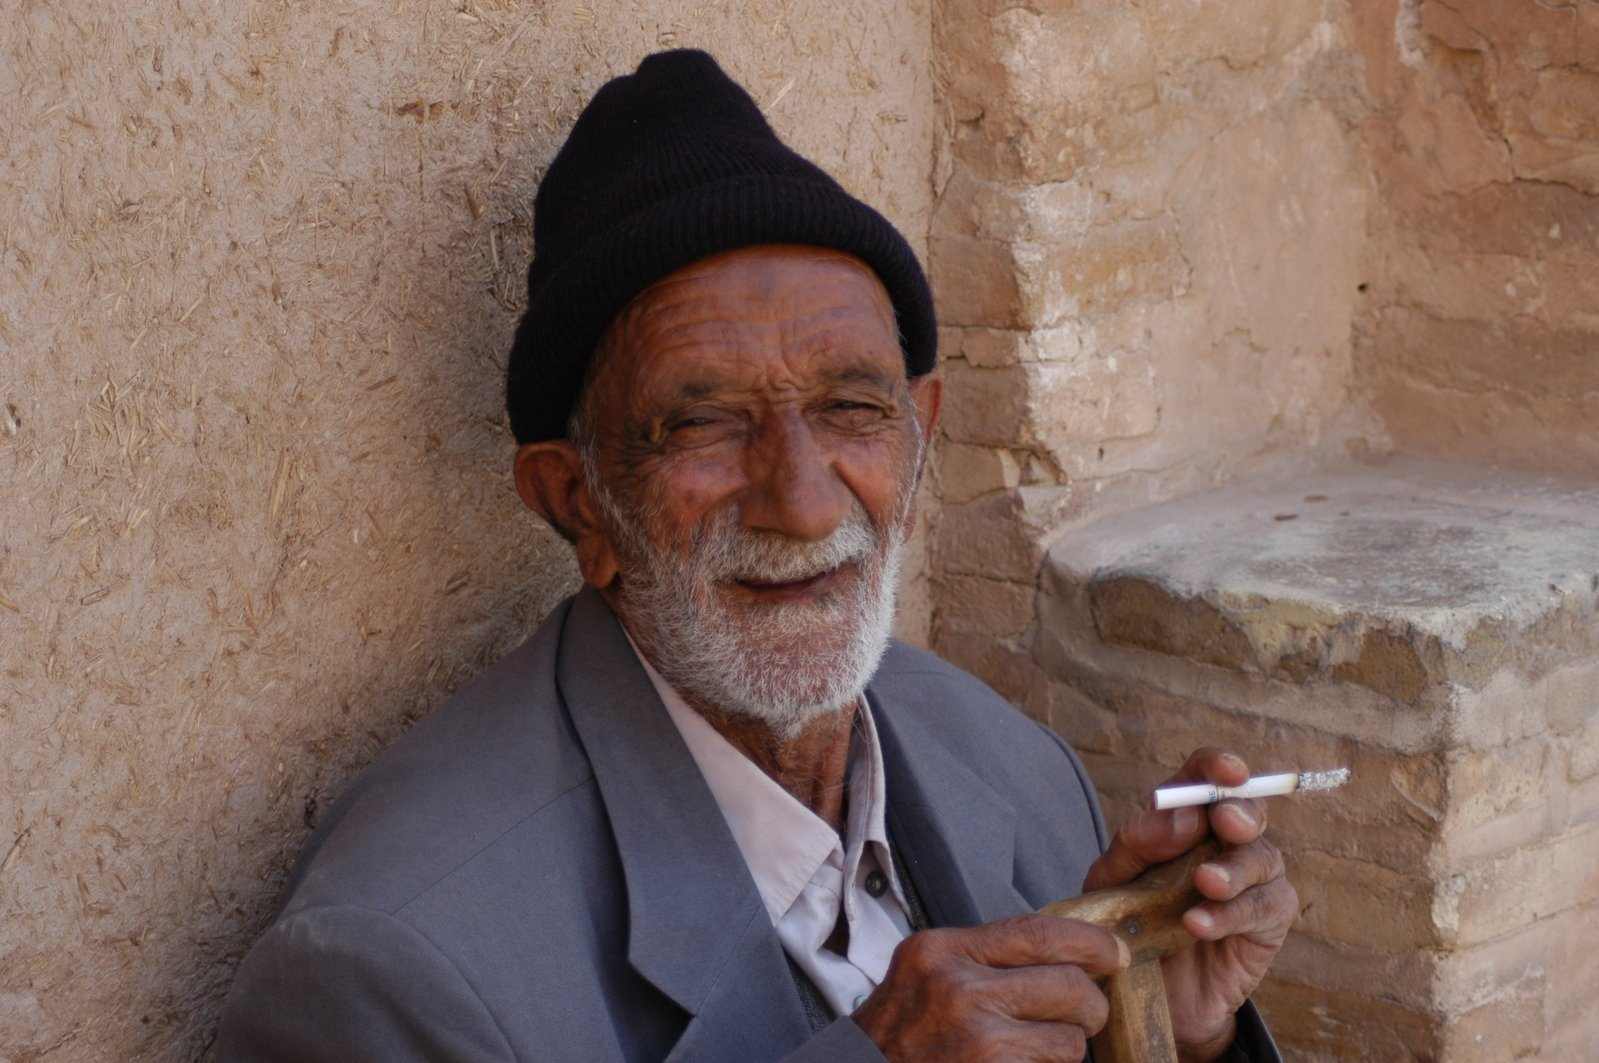cigarette: (1149, 764, 1352, 810)
